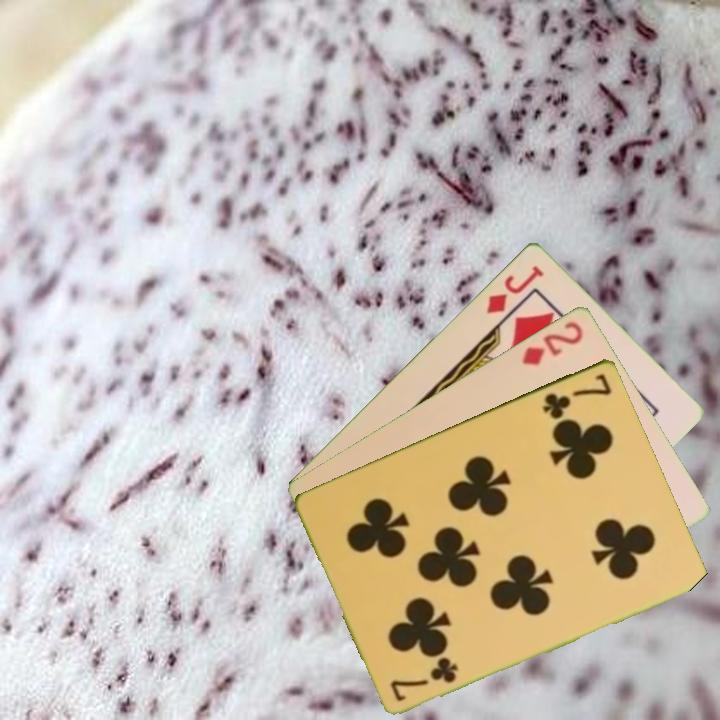2d: (518, 317, 586, 368)
7c: (539, 369, 615, 421), (387, 656, 462, 704)
Jd: (482, 261, 547, 317)
